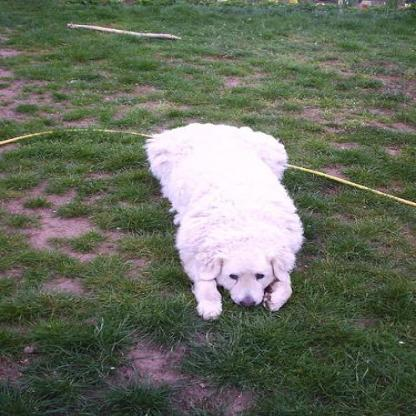kuvasz: (141, 119, 305, 320)
